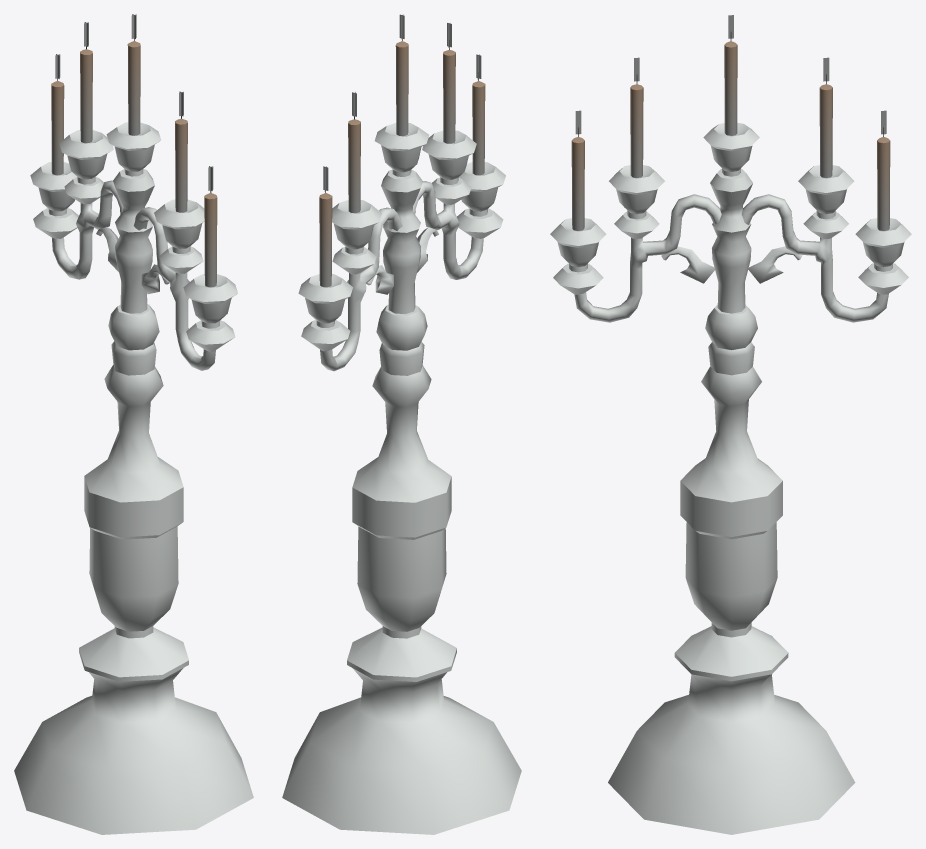
3 views of the same model, side by side, from view 1: azimuth 30°, elevation 25°; view 2: azimuth 150°, elevation 25°; view 3: azimuth 270°, elevation 25° (orthographic).
Visible parts, largest first — view 1: G:\FFXIV-MapTools\exports\r2f1\bg\ex1\01_roc_r2\fld\r2f1\bgp (×3); view 2: G:\FFXIV-MapTools\exports\r2f1\bg\ex1\01_roc_r2\fld\r2f1\bgp (×3); view 3: G:\FFXIV-MapTools\exports\r2f1\bg\ex1\01_roc_r2\fld\r2f1\bgp (×3).
Part boxes in pixels (<box>): G:\FFXIV-MapTools\exports\r2f1\bg\ex1\01_roc_r2\fld\r2f1\bgp (×3): <box>14,14,253,834</box>; G:\FFXIV-MapTools\exports\r2f1\bg\ex1\01_roc_r2\fld\r2f1\bgp (×3): <box>282,14,521,834</box>; G:\FFXIV-MapTools\exports\r2f1\bg\ex1\01_roc_r2\fld\r2f1\bgp (×3): <box>550,15,911,834</box>.
Size of the model in its own units: 0.9351 by 3.2 by 1.37.
